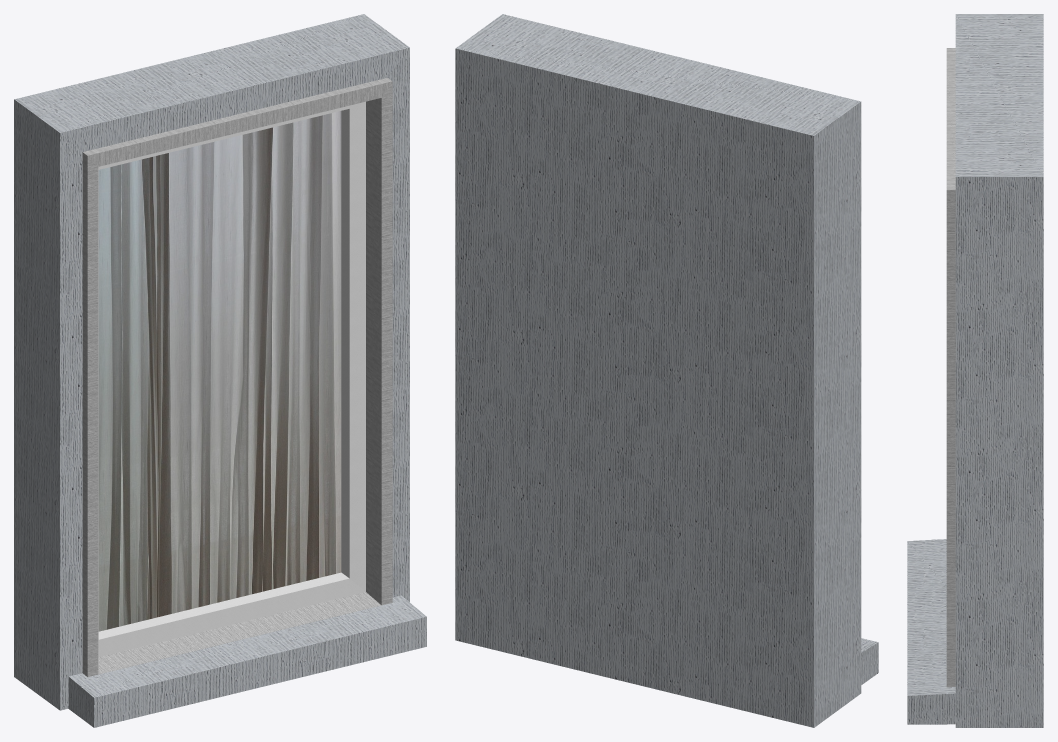
File: Window1.glb
3 views of the same model, side by side, from view 1: azimuth 30°, elevation 25°; view 2: azimuth 150°, elevation 25°; view 3: azimuth 270°, elevation 25° (orthographic). The views are drawn at different scales.
Parts seen in each view (by area): view 1: Cube, Cube.002; view 2: Cube, Cube.002; view 3: Cube, Cube.002.
Part boxes in pixels (x1=…): Cube: x1=14, y1=14, x2=409, y2=710; Cube.002: x1=68, y1=595, x2=426, y2=727; Cube: x1=455, y1=14, x2=861, y2=727; Cube.002: x1=861, y1=638, x2=878, y2=684; Cube: x1=946, y1=14, x2=1043, y2=727; Cube.002: x1=907, y1=539, x2=955, y2=724.
Size of the model in its own units: 2.92 by 4.61 by 1.03.
Materials: 4 (4 with a texture image).
